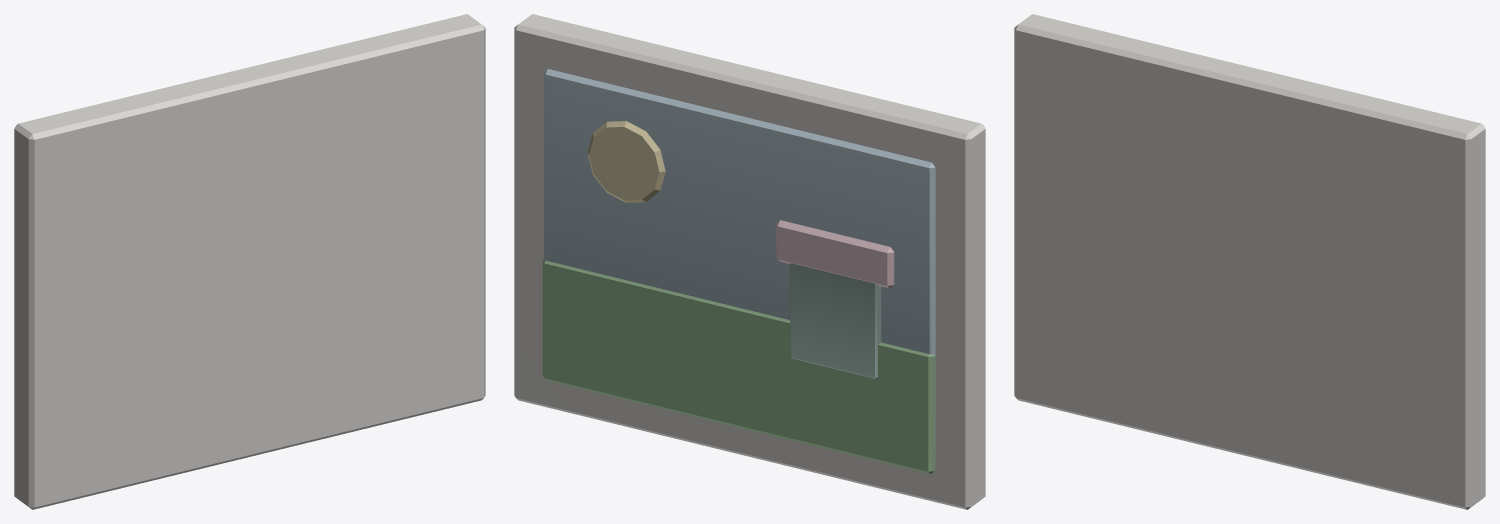
File: furn_picture_frame__white.glb
3 renders of one model, left to right at view 1: azimuth 30°, elevation 25°; view 2: azimuth 150°, elevation 25°; view 3: azimuth 330°, elevation 25°, orthographic.
Size of the model in its own units: 0.7 by 0.55 by 0.066.
